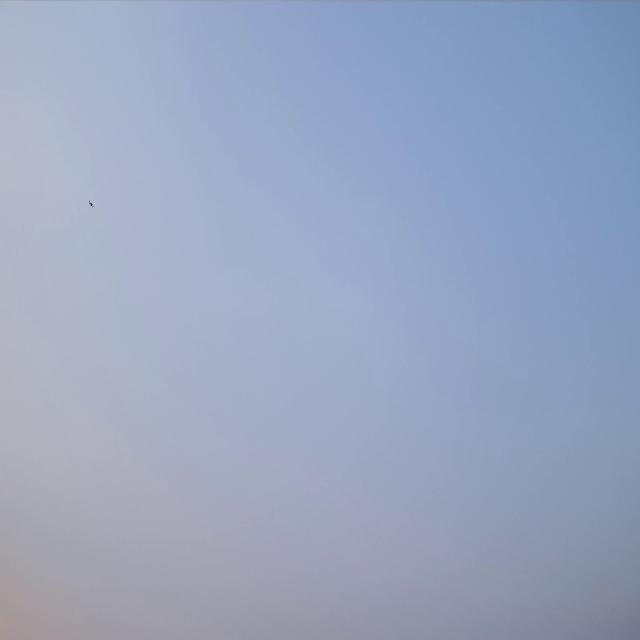UAV: (88, 199, 94, 208)
